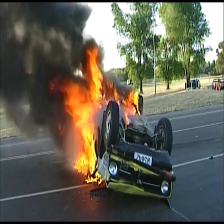fire_h: (48, 45, 101, 174), (122, 89, 142, 124), (102, 78, 119, 109)
fire_l: (86, 171, 104, 185)
